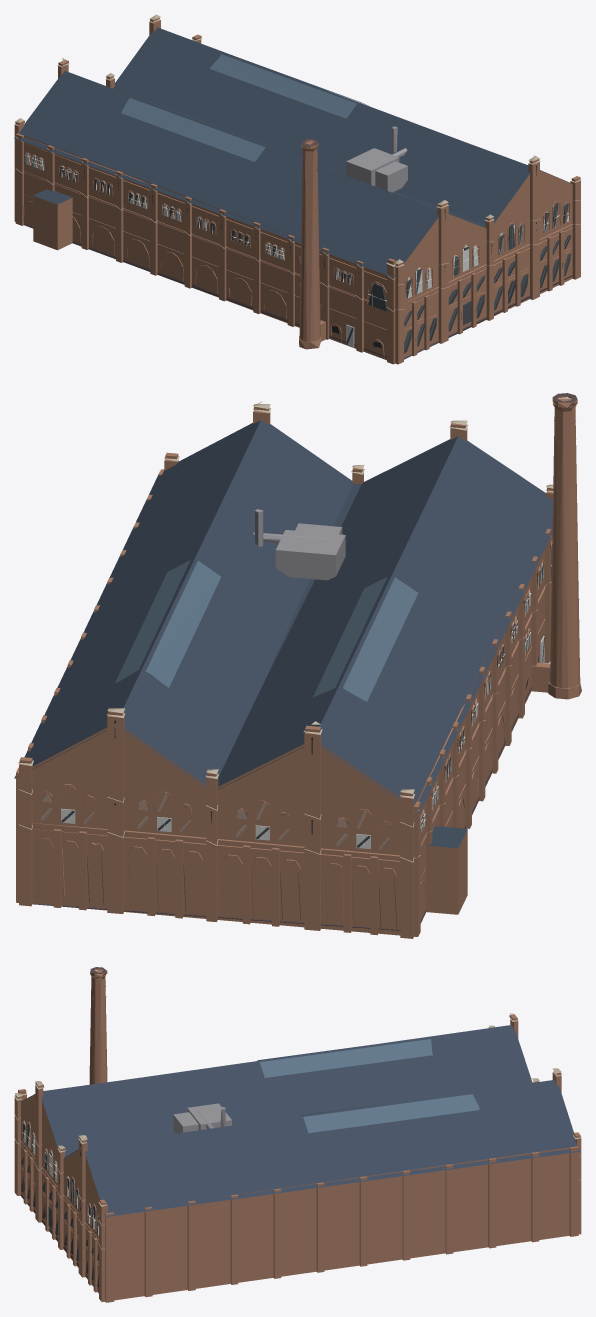
Rendered from sportfondsenbad-oost.lod1.glb.
3 renders of one model, top to bottom at view 1: azimuth 30°, elevation 25°; view 2: azimuth 150°, elevation 25°; view 3: azimuth 270°, elevation 25°, orthographic. The views are drawn at different scales.
Visible parts, largest first — view 1: sportfondsenbad-oost; view 2: sportfondsenbad-oost; view 3: sportfondsenbad-oost.
Boxes of the visible parts, bbox=[...] form: sportfondsenbad-oost: bbox=[14, 14, 581, 364]; sportfondsenbad-oost: bbox=[14, 393, 581, 938]; sportfondsenbad-oost: bbox=[14, 967, 581, 1302].
Bounding box in the file's own units: 59.59 × 30.55 × 78.61.
